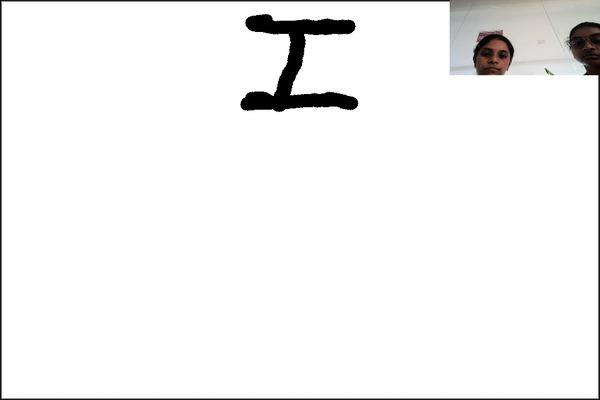i: (233, 7, 367, 120)
